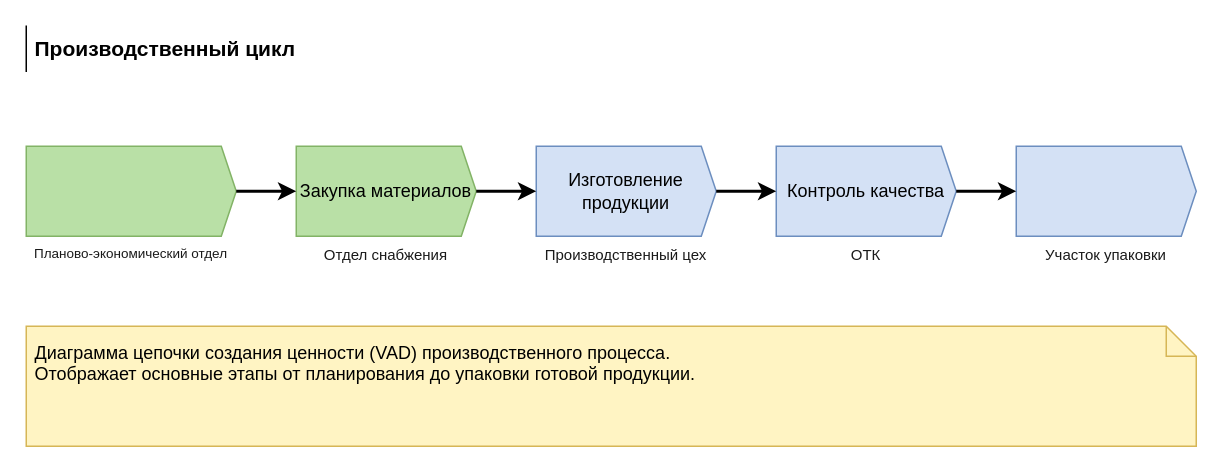
This 1223x473 diagram has some shape labels left out. The shapes that lost their labels are listed below. From the top down, each one's box as (x1, y1, x2, y2) in pixels, then its label:
(25, 145, 236, 236): Планирование производства
(1015, 145, 1196, 236): Упаковка и маркировка
